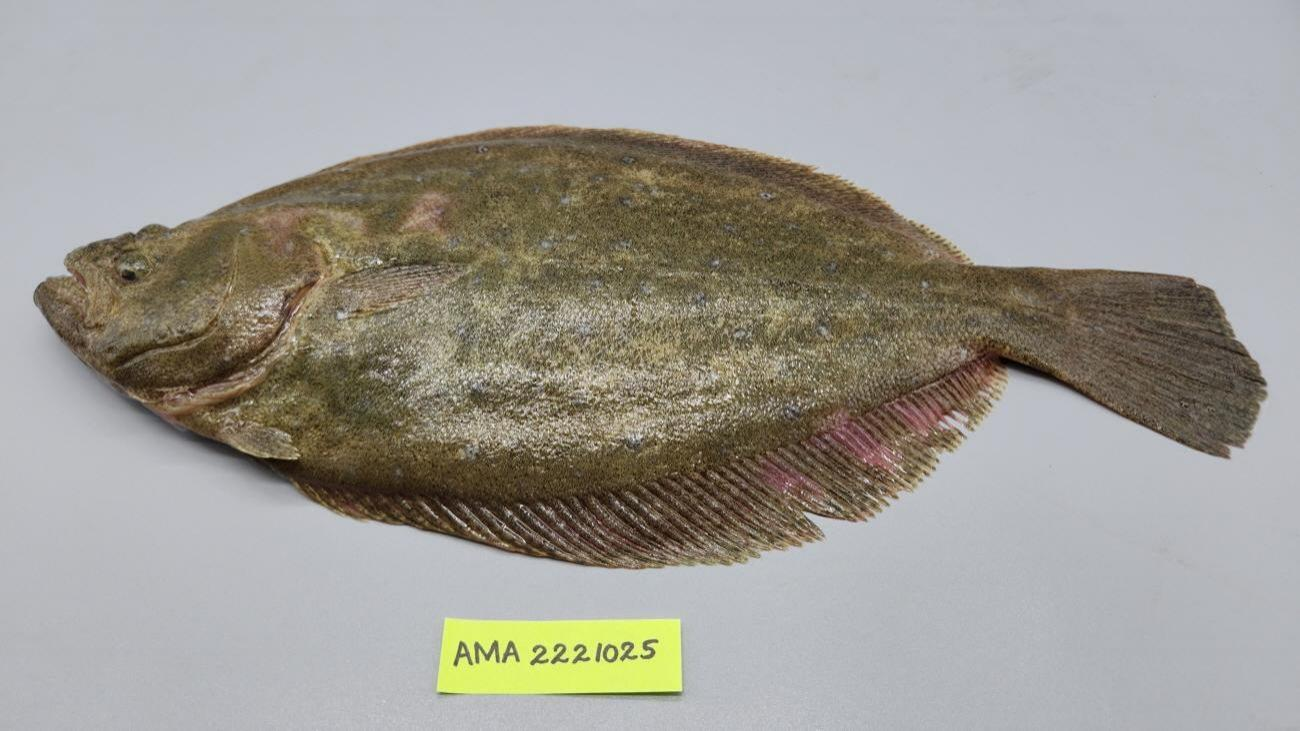MADYU: (245, 206, 367, 257), (397, 190, 455, 240)
MAOUY: (33, 127, 1264, 566)
